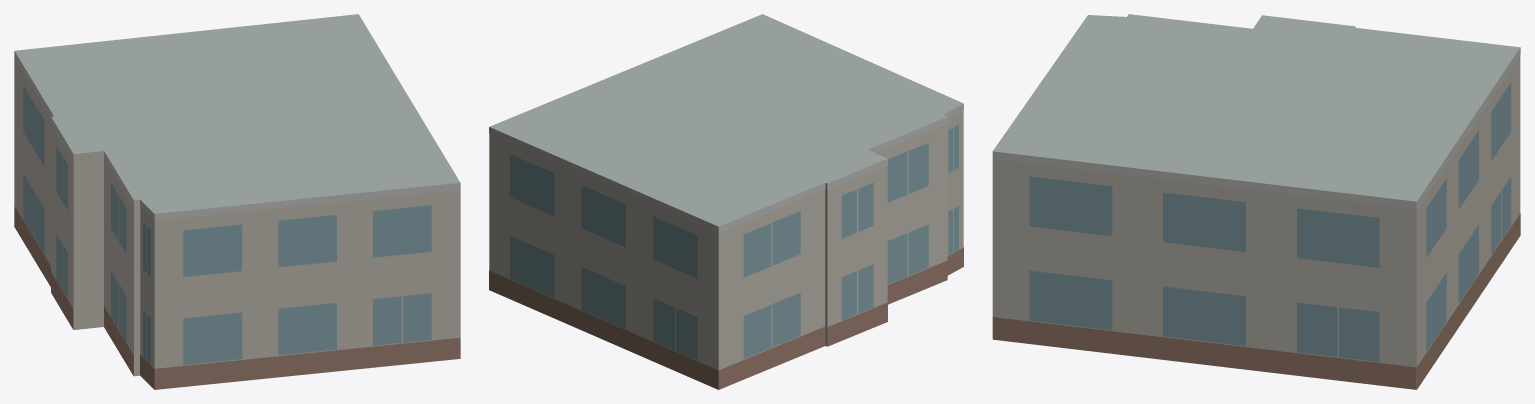
File: survey-upis-32800099.glb
The picture shows the model from 3 angles, left to right: view 1: azimuth 30°, elevation 25°; view 2: azimuth 150°, elevation 25°; view 3: azimuth 270°, elevation 25°; orthographic projection. The views are drawn at different scales.
Visible parts, largest first — view 1: survey-upis-32800099.tmp; view 2: survey-upis-32800099.tmp; view 3: survey-upis-32800099.tmp.
Boxes of the visible parts, x1,y1,x2,y2 form: survey-upis-32800099.tmp: (14,14,460,389); survey-upis-32800099.tmp: (489,14,963,389); survey-upis-32800099.tmp: (992,14,1520,389).
Size of the model in its own units: 13.05 by 6.1 by 15.51.
